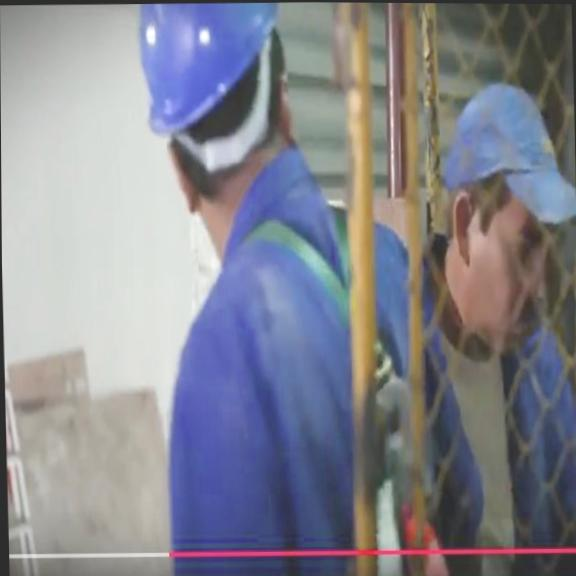no_safety_vest: (154, 167, 441, 576), (415, 251, 576, 575)
